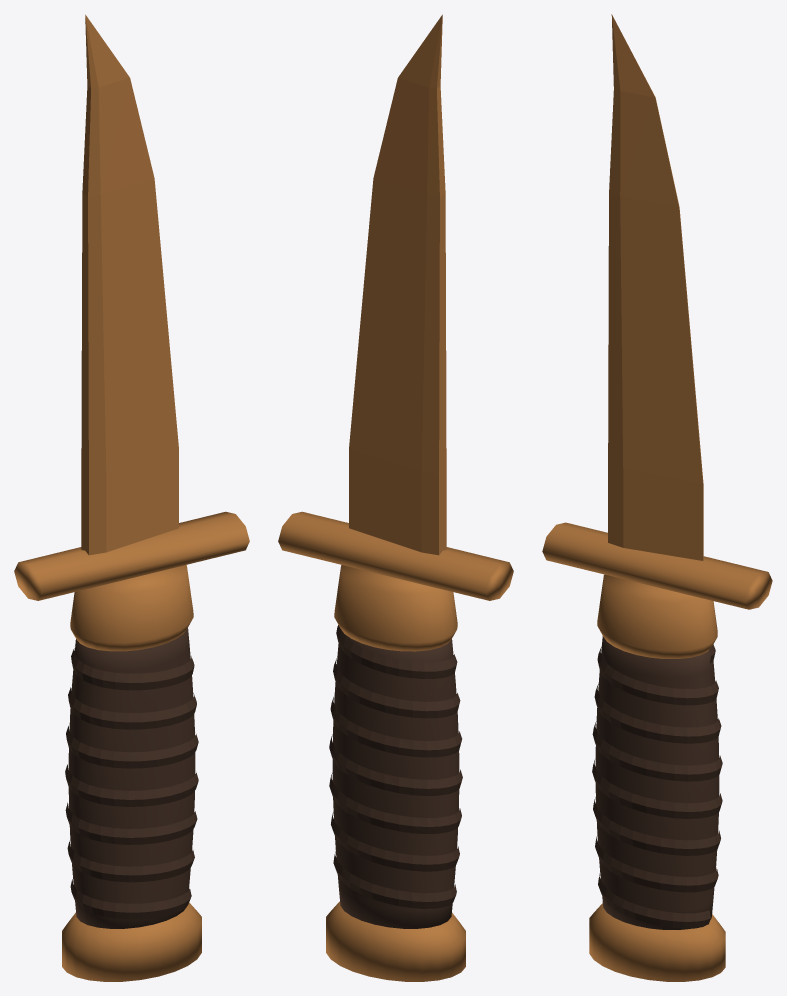
The model's file is corealm_dagger_1.glb.
3 renders of one model, left to right at view 1: azimuth 30°, elevation 25°; view 2: azimuth 150°, elevation 25°; view 3: azimuth 330°, elevation 25°, orthographic. The views are drawn at different scales.
Parts seen in each view (by area): view 1: equipment-dagger-blade, equipment-dagger-leather, equipment-dagger-metal; view 2: equipment-dagger-blade, equipment-dagger-leather, equipment-dagger-metal; view 3: equipment-dagger-blade, equipment-dagger-leather, equipment-dagger-metal.
Boxes of the visible parts, left/top/right/bottom form: equipment-dagger-blade: left=81, top=14, right=178, bottom=555; equipment-dagger-leather: left=65, top=628, right=198, bottom=928; equipment-dagger-metal: left=14, top=511, right=249, bottom=981; equipment-dagger-blade: left=349, top=14, right=446, bottom=555; equipment-dagger-leather: left=329, top=625, right=462, bottom=928; equipment-dagger-metal: left=278, top=511, right=513, bottom=981; equipment-dagger-blade: left=608, top=14, right=703, bottom=560; equipment-dagger-leather: left=592, top=636, right=722, bottom=929; equipment-dagger-metal: left=542, top=522, right=772, bottom=981.
Bounding box in the file's own units: 0.102 × 0.448 × 0.046.
